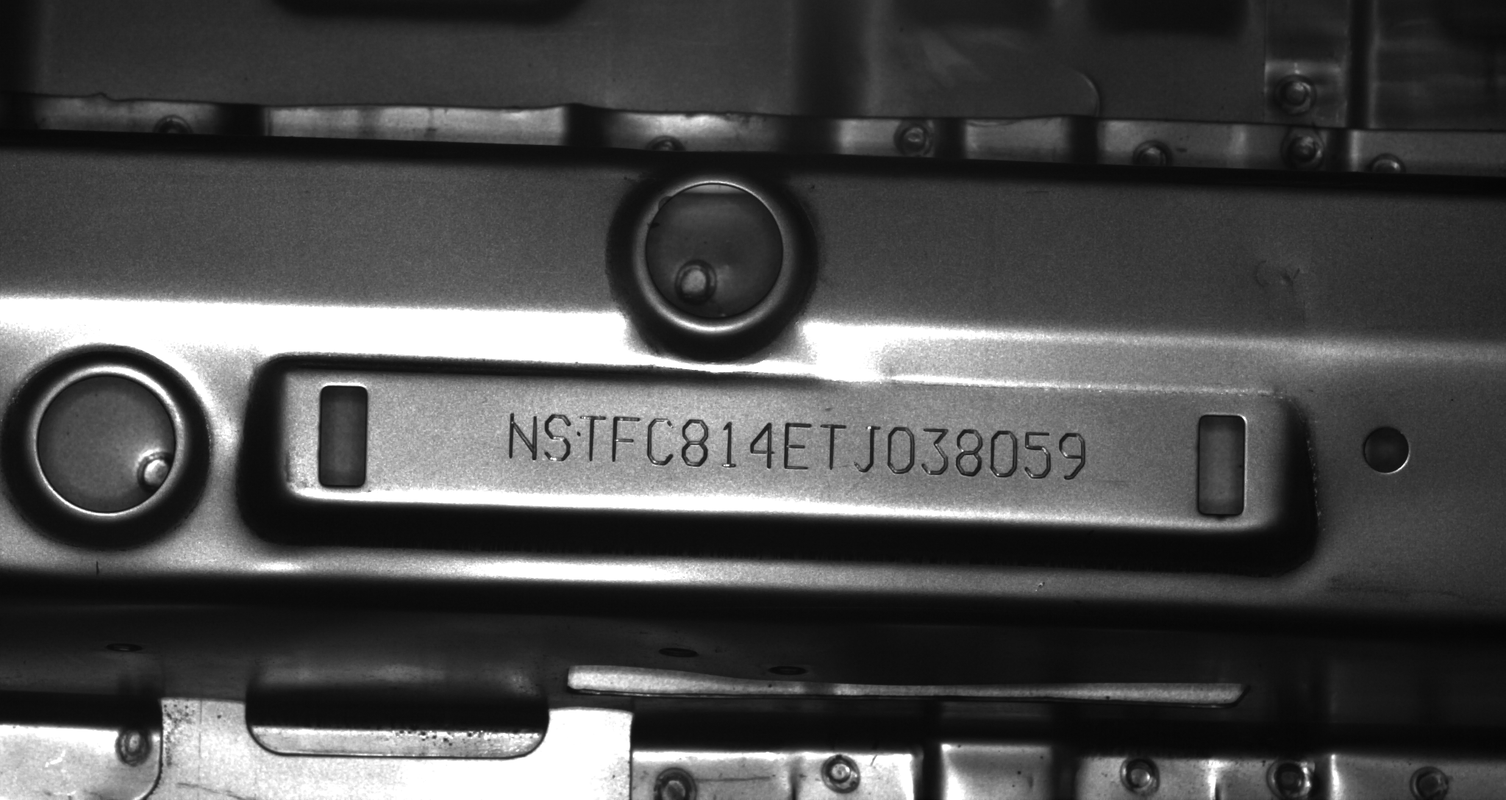qy_vin_plate: (279, 371, 1280, 533)
